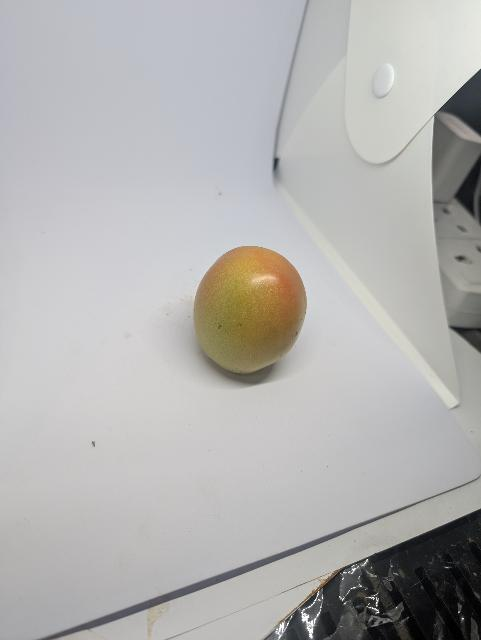breaker: (188, 244, 308, 378)
